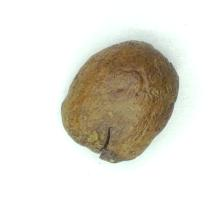NG: (72, 120, 136, 164)
